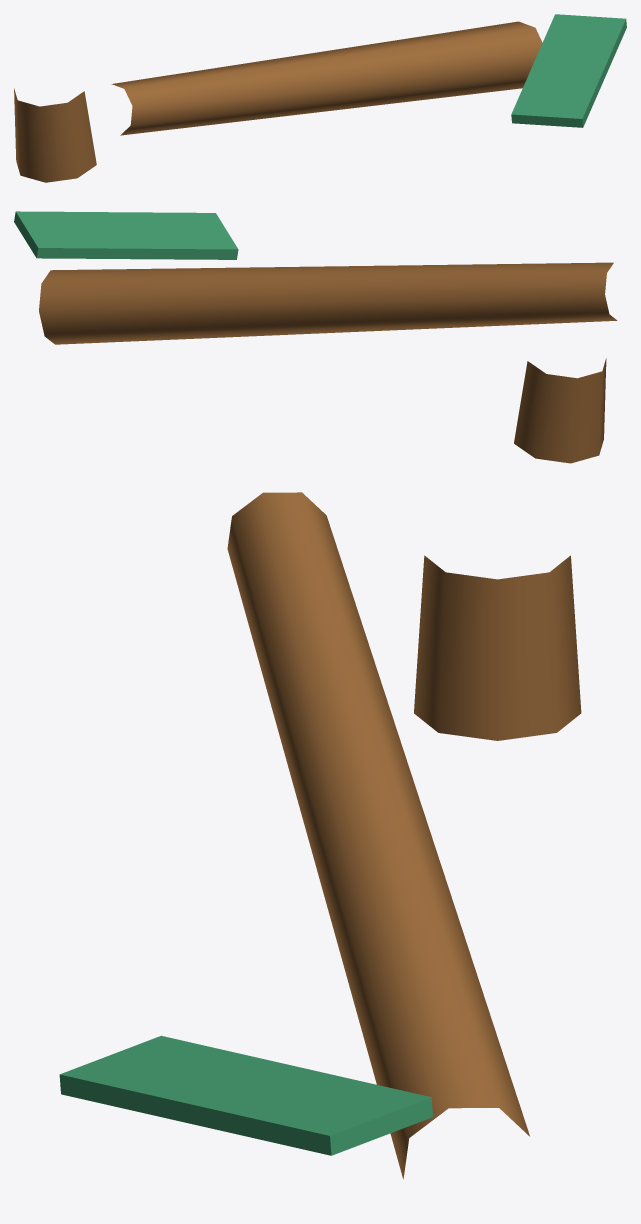
File: palm-tree-wreck.glb
The picture shows the model from 3 angles, top to bottom: view 1: azimuth 30°, elevation 25°; view 2: azimuth 150°, elevation 25°; view 3: azimuth 270°, elevation 25°; orthographic projection. The views are drawn at different scales.
Visible parts, largest first — view 1: Root; view 2: Root; view 3: Root.
Part boxes in pixels (x1,y1,x2,y2): Root: [14, 14, 626, 182]; Root: [14, 211, 617, 463]; Root: [59, 492, 581, 1179].
Bounding box in the file's own units: 6.26 × 1.49 × 2.49.
